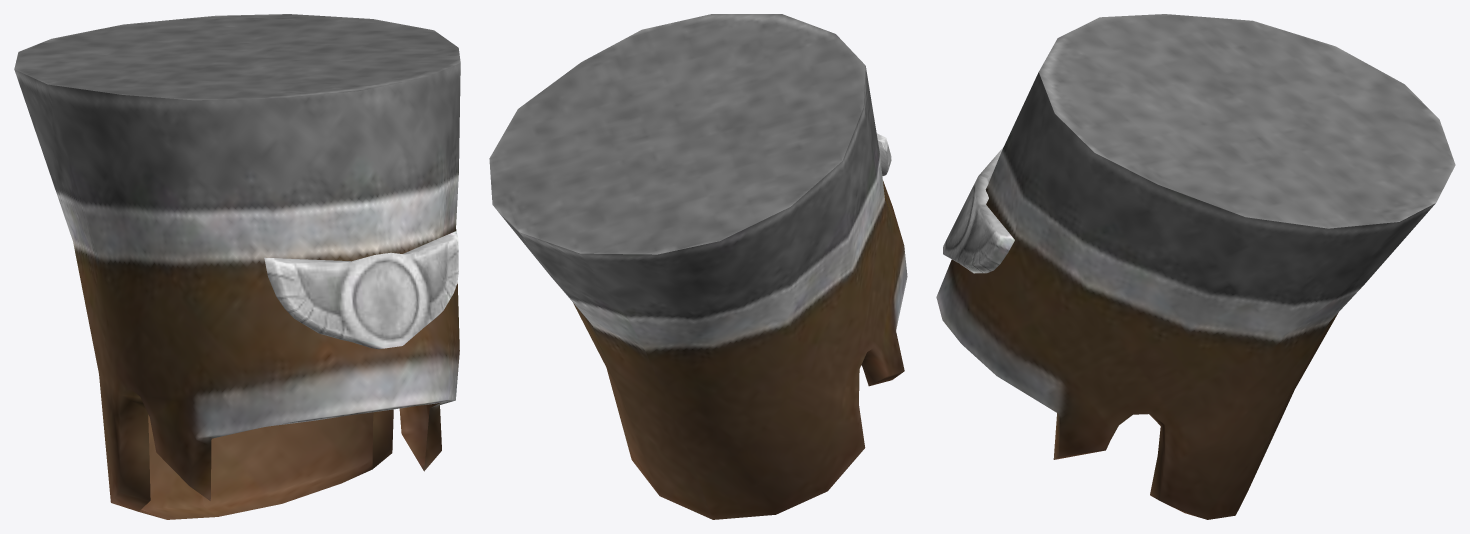
The model's file is rider-helmet-slice-heavywarelephants.glb.
3 views of the same model, side by side, from view 1: azimuth 30°, elevation 25°; view 2: azimuth 150°, elevation 25°; view 3: azimuth 270°, elevation 25° (orthographic). The views are drawn at different scales.
Bounding box in the file's own units: 0.2674 × 0.3312 × 0.3562.
1 material, 1 textured.
